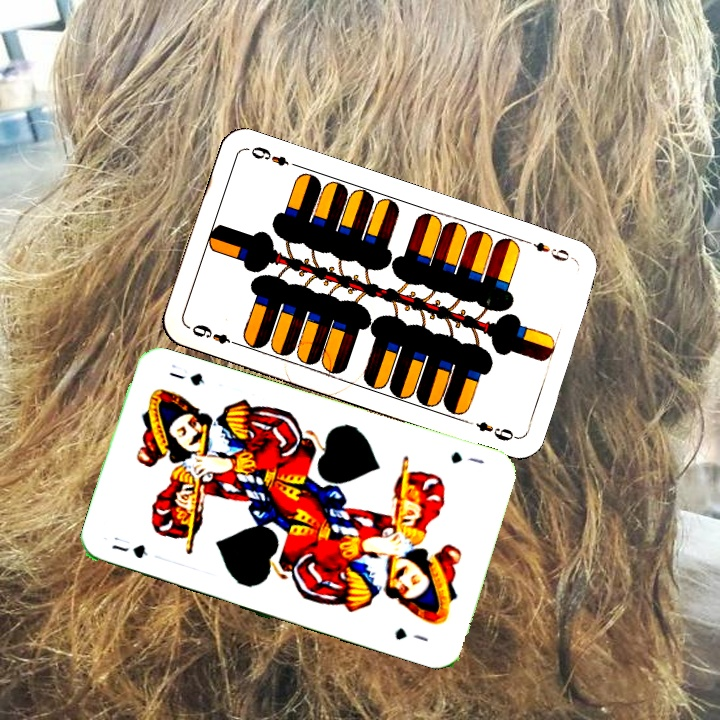E9: (520, 235, 577, 264), (188, 320, 243, 349)
GU: (107, 540, 151, 561), (446, 447, 487, 467)
